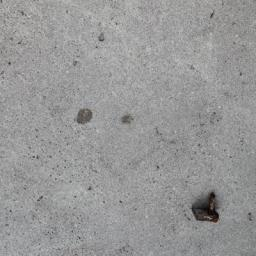FOD: (190, 188, 224, 229)
